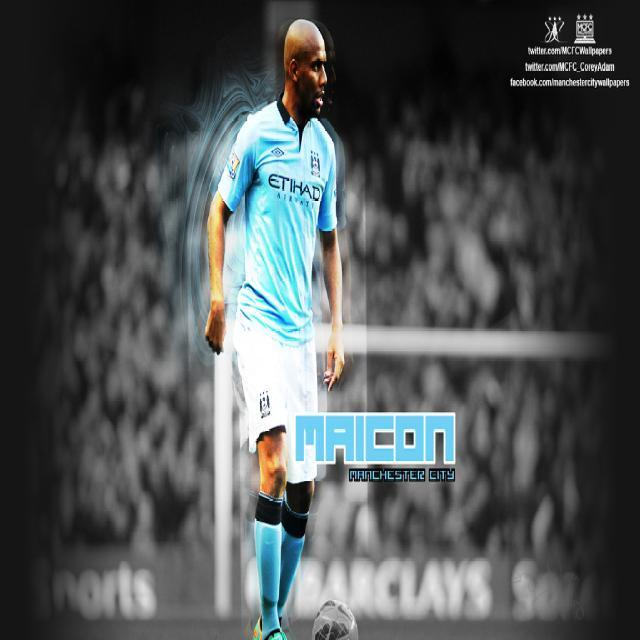football: (305, 583, 364, 640)
